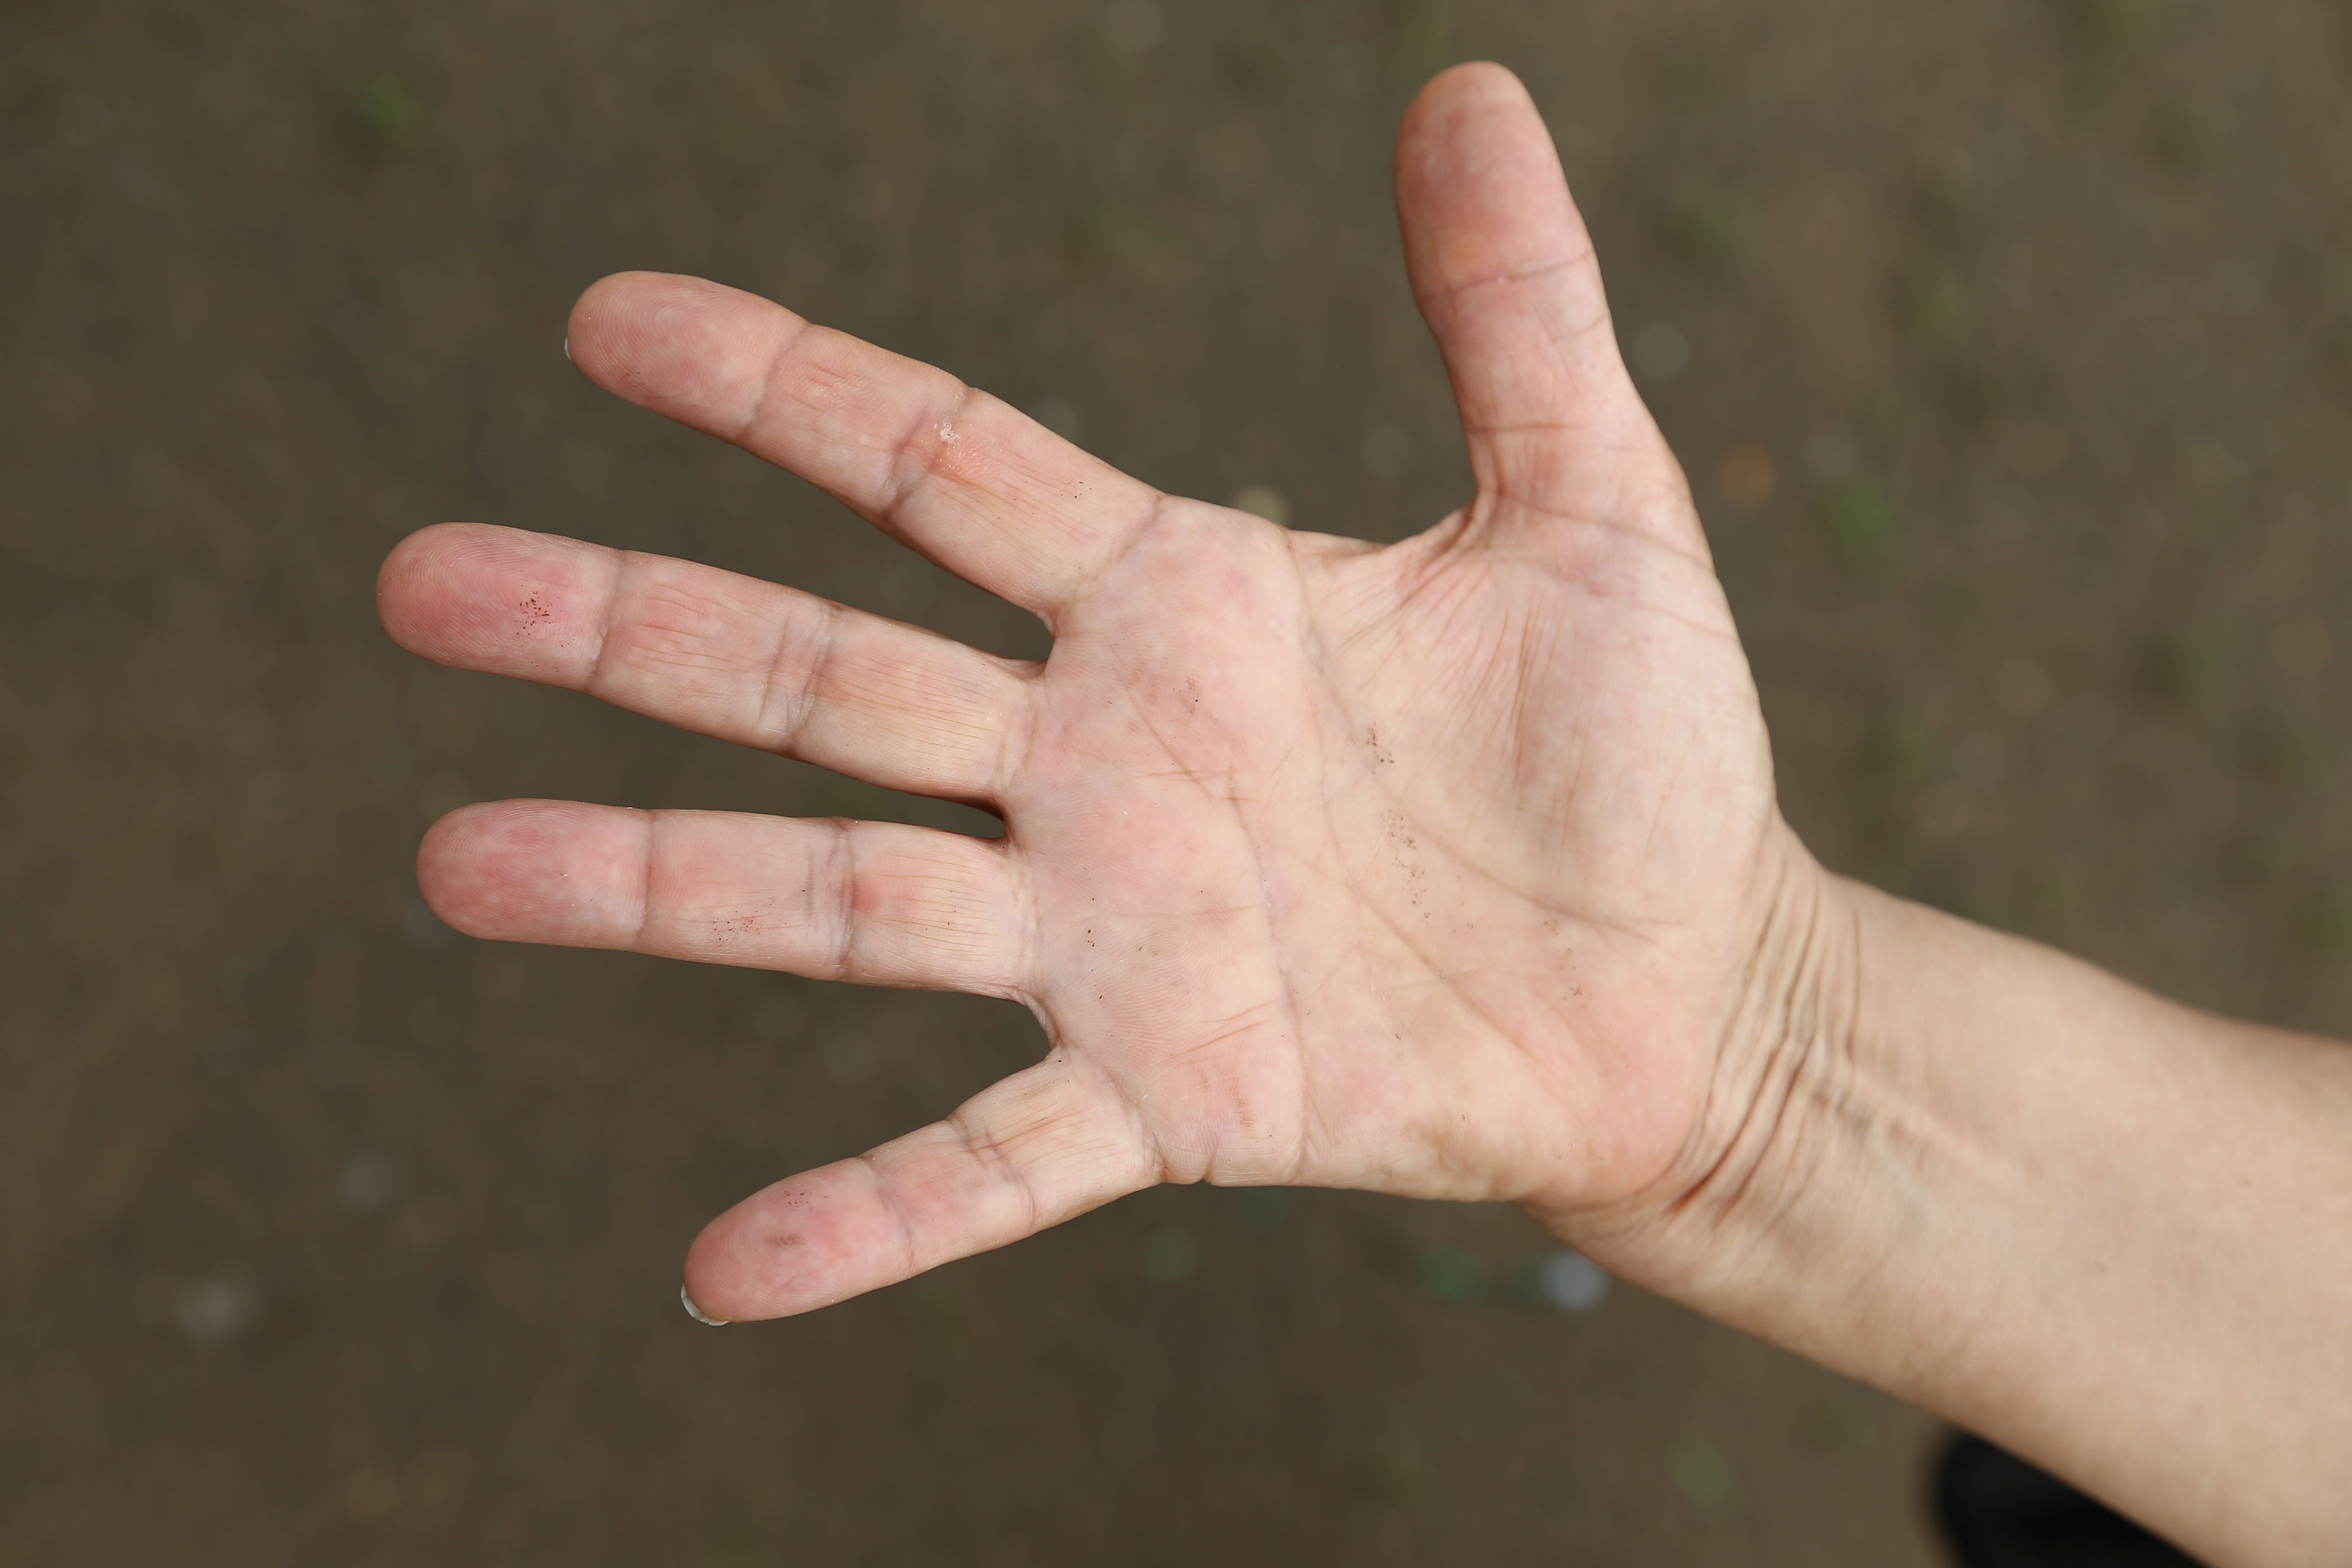hand: (332, 51, 1811, 1388)
